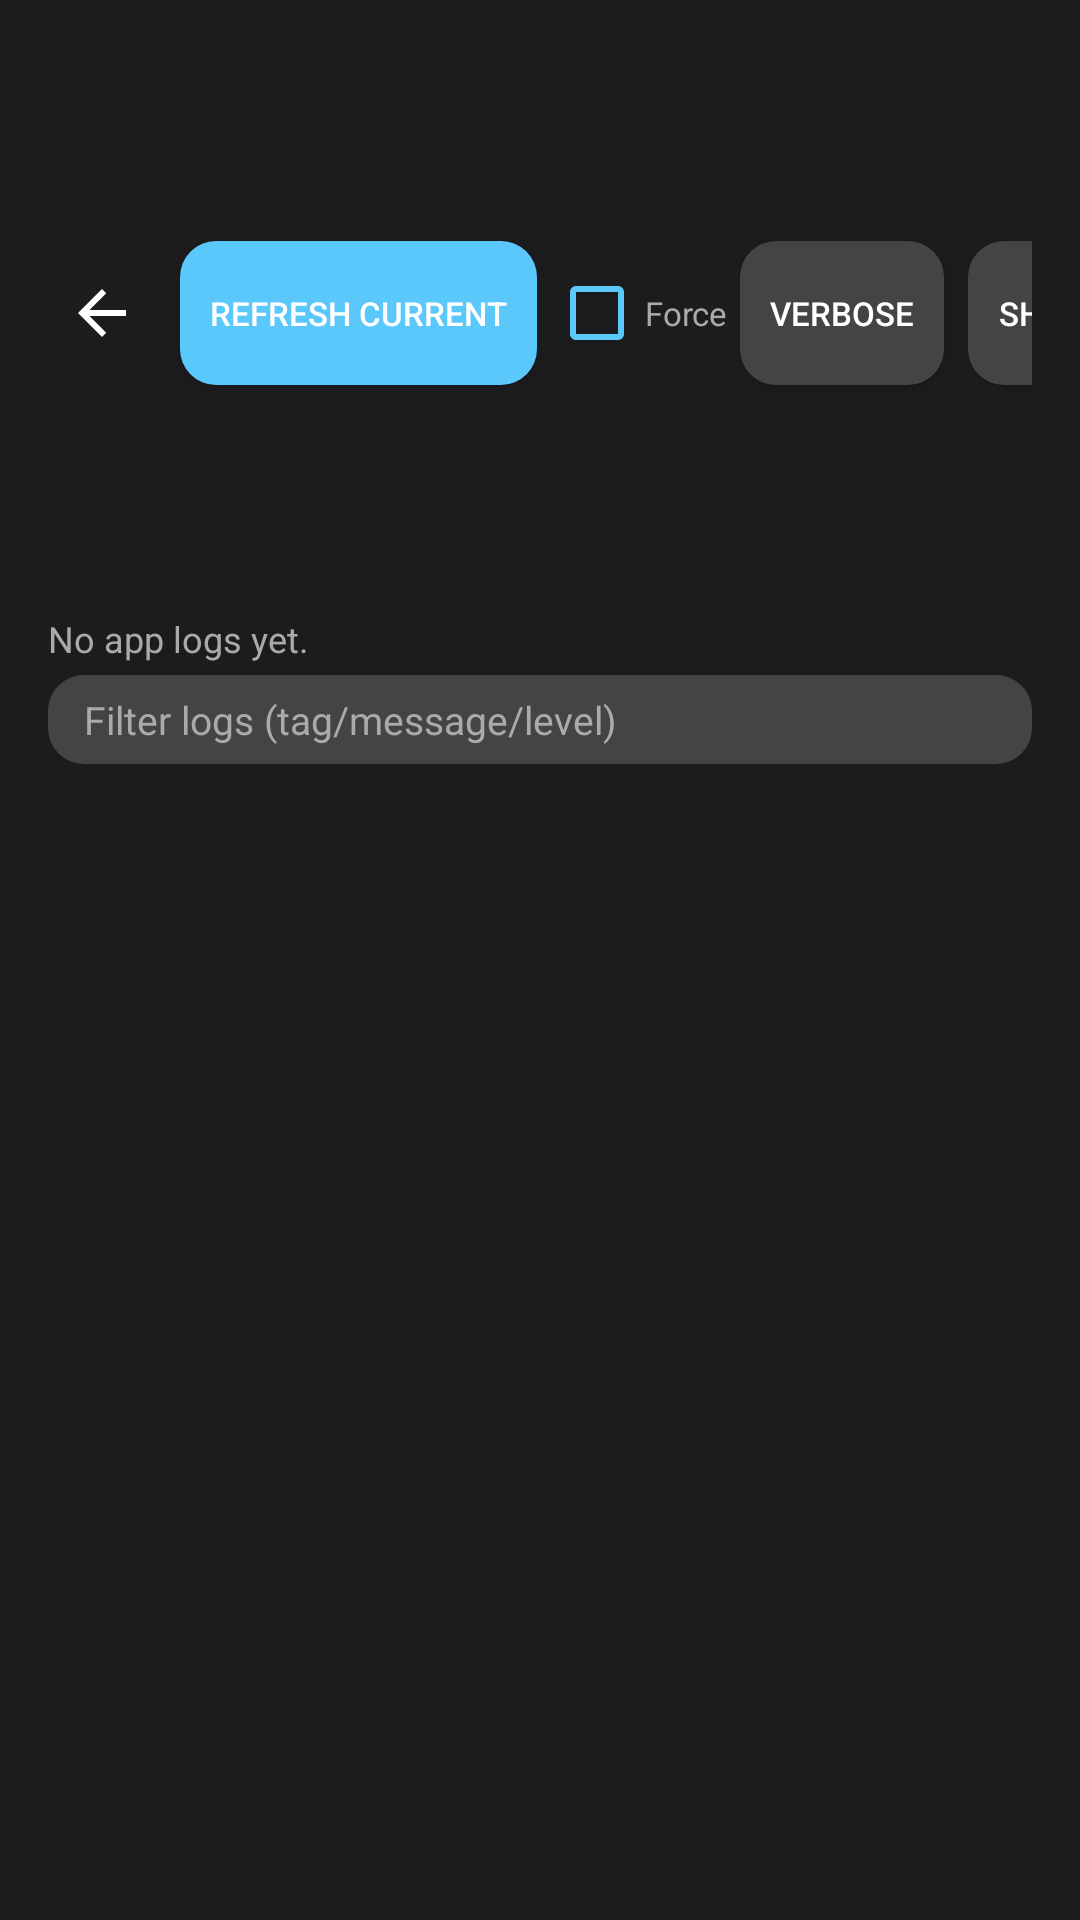

Icons on this 1080*1920 Android screen, each with its box as bbox=[x1, y1, x2, y2]:
Back: bbox=[78, 289, 126, 337]
